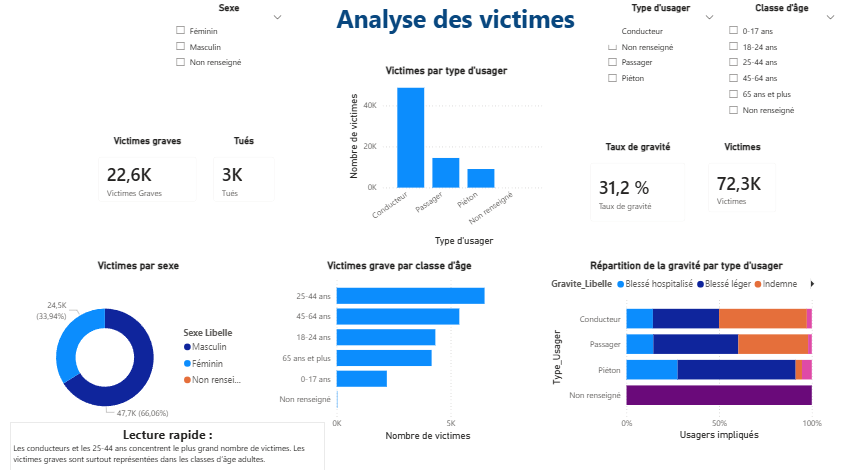

The dashboard page shown, as its layout file describes it:
{"tool":"powerbi","page":{"name":"Analyse des victimes","canvas":[1280,720],"ordinal":1},"visuals":[{"type":"cardVisual","title":"Victimes","fields":{"Data":["tbl_FACT_Usagers_Analyse_2024.Victimes"]},"box":[1059.1,216.7,137.9,125.8],"z":0},{"type":"cardVisual","title":"Victimes graves","fields":{"Data":["tbl_FACT_Usagers_Analyse_2024.Victimes Graves"]},"box":[134.8,207.6,183.3,118.2],"z":1},{"type":"cardVisual","title":"Tués","fields":{"Data":["tbl_FACT_Usagers_Analyse_2024.Tués"]},"box":[309.1,207.6,127.3,118.2],"z":2},{"type":"cardVisual","title":"Taux de gravité","fields":{"Data":["tbl_FACT_Usagers_Analyse_2024.Taux de gravité"]},"box":[880.3,216.7,178.8,139.4],"z":3},{"type":"slicer","title":"Classe d''âge","fields":{"Values":["tbl_FACT_Usagers_Analyse_2024.Classe_Age"]},"box":[1095.5,6.1,184.8,187.9],"z":4},{"type":"clusteredBarChart","title":"Victimes grave par classe d''âge","fields":{"Category":["tbl_FACT_Usagers_Analyse_2024.Classe_Age"],"Y":["tbl_FACT_Usagers_Analyse_2024.Victimes Graves"]},"box":[415.2,395.5,386.4,280.3],"z":5},{"type":"clusteredColumnChart","title":"Victimes par type d''usager","fields":{"Category":["tbl_FACT_Usagers_Analyse_2024.Type_Usager"],"Y":["tbl_FACT_Usagers_Analyse_2024.Victimes"]},"box":[525.8,100,307.6,280.3],"z":6},{"type":"donutChart","title":"Victimes par sexe","fields":{"Category":["tbl_FACT_Usagers_Analyse_2024.Sexe_Libelle"],"Y":["tbl_FACT_Usagers_Analyse_2024.Victimes"]},"box":[37.9,395.5,350,280.3],"z":7},{"type":"hundredPercentStackedBarChart","title":"Répartition de la gravité par type d''usager","fields":{"Category":["tbl_FACT_Usagers_Analyse_2024.Type_Usager"],"Y":["tbl_FACT_Usagers_Analyse_2024.Usagers impliqués"],"Series":["tbl_FACT_Usagers_Analyse_2024.Gravite_Libelle"]},"box":[833.3,395.5,419.7,280.3],"z":8},{"type":"slicer","title":"Type d''usager","fields":{"Values":["tbl_FACT_Usagers_Analyse_2024.Type_Usager"]},"box":[912.1,6.1,184.8,140.9],"z":9},{"type":"slicer","title":"Sexe","fields":{"Values":["tbl_FACT_Usagers_Analyse_2024.Sexe_Libelle"]},"box":[257.6,6.1,184.8,128.8],"z":10},{"type":"textbox","box":[442.4,0,501.5,71.2],"z":11},{"type":"textbox","box":[18.2,642.4,477.3,77.3],"z":12}]}

Visuals, with their boxes in screenshot pixels (x1, y1, x2, y2), scaled from the page's 1280x720 canvas onto the 841x470 screenshot:
"Victimes" cardVisual: 696:141:786:224
"Victimes graves" cardVisual: 89:136:209:213
"Tués" cardVisual: 203:136:287:213
"Taux de gravité" cardVisual: 578:141:696:232
"Classe d''âge" slicer: 720:4:840:127
"Victimes grave par classe d''âge" clusteredBarChart: 273:258:527:441
"Victimes par type d''usager" clusteredColumnChart: 345:65:548:248
"Victimes par sexe" donutChart: 25:258:255:441
"Répartition de la gravité par type d''usager" hundredPercentStackedBarChart: 548:258:823:441
"Type d''usager" slicer: 599:4:721:96
"Sexe" slicer: 169:4:291:88
textbox: 291:0:620:46
textbox: 12:419:326:469
